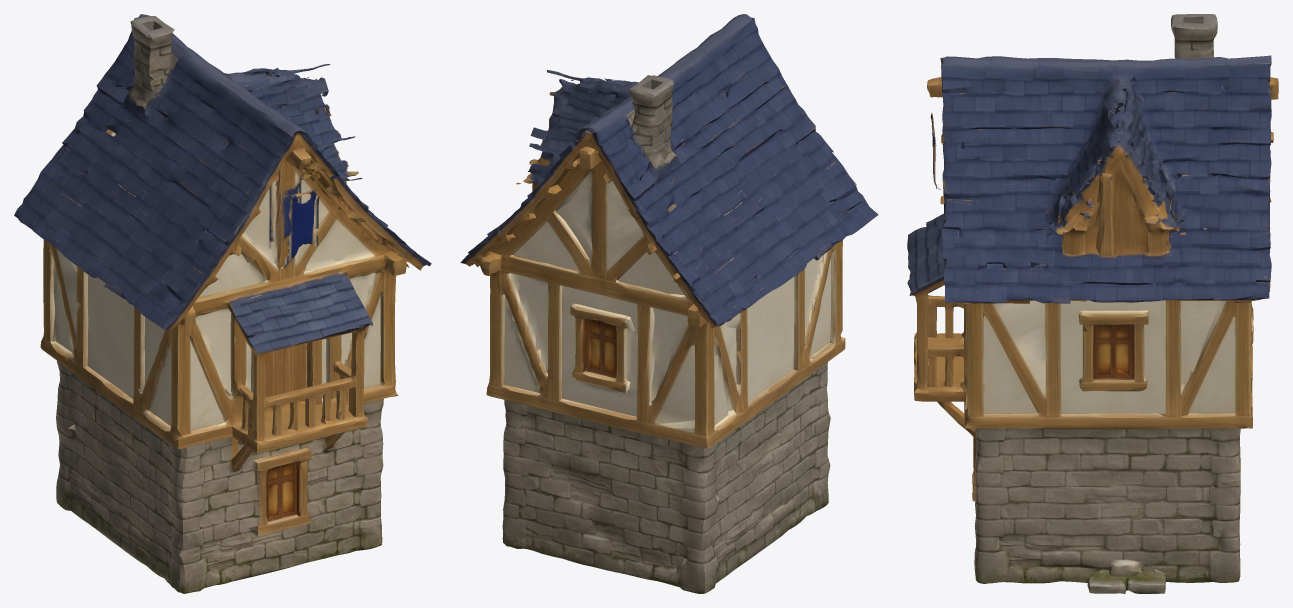
The model's file is cloudreach_cliff_cottage.glb.
3 renders of one model, left to right at view 1: azimuth 30°, elevation 25°; view 2: azimuth 150°, elevation 25°; view 3: azimuth 270°, elevation 25°, orthographic. The views are drawn at different scales.
Parts seen in each view (by area): view 1: Mesh_0; view 2: Mesh_0; view 3: Mesh_0.
Part boxes in pixels (left/top/right/bottom): Mesh_0: left=14, top=14, right=431, bottom=593; Mesh_0: left=460, top=14, right=878, bottom=593; Mesh_0: left=907, top=14, right=1278, bottom=593.
Bounding box in the file's own units: 4.71 × 8 × 5.38.
1 material, 1 textured.
